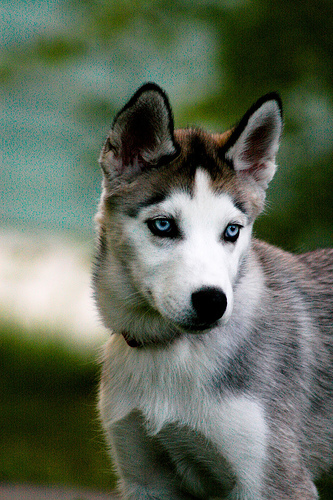dog: (91, 80, 331, 498)
